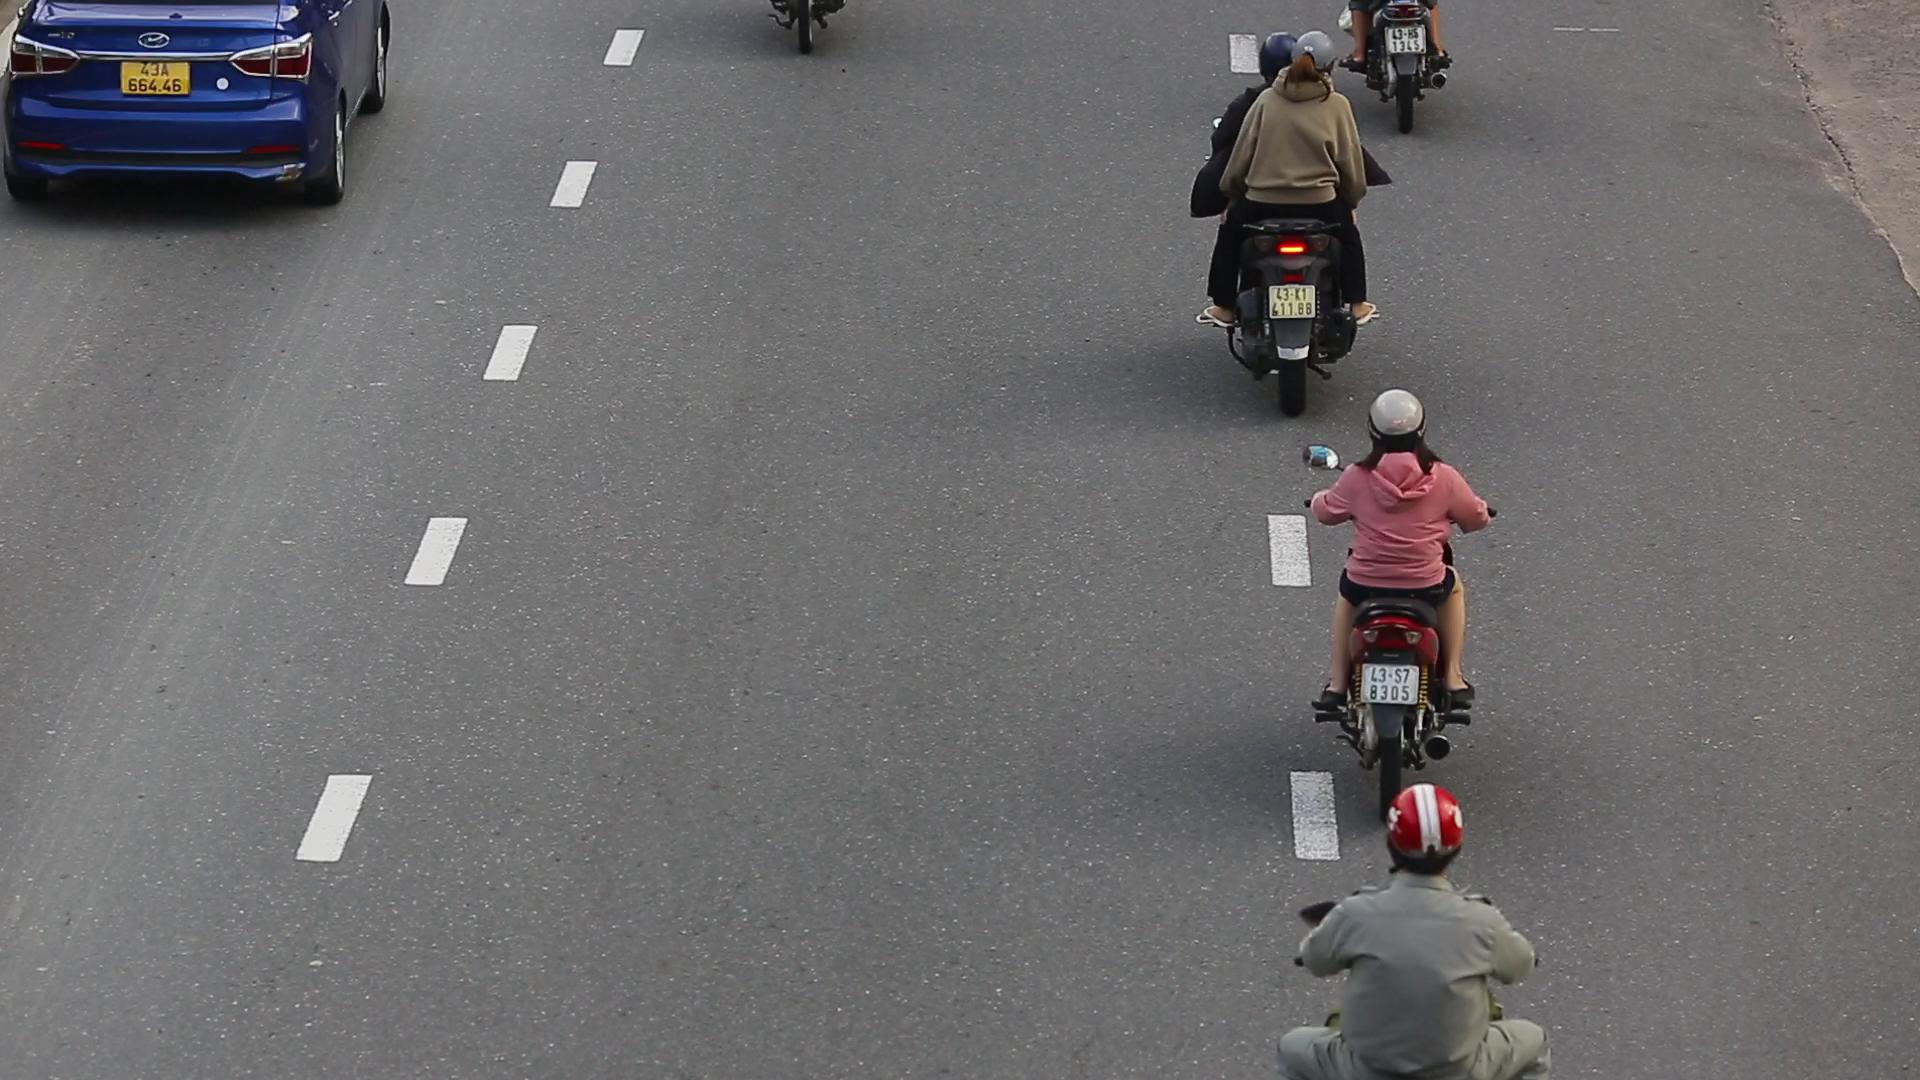motobike: (1188, 18, 1379, 401), (1294, 390, 1482, 774)
